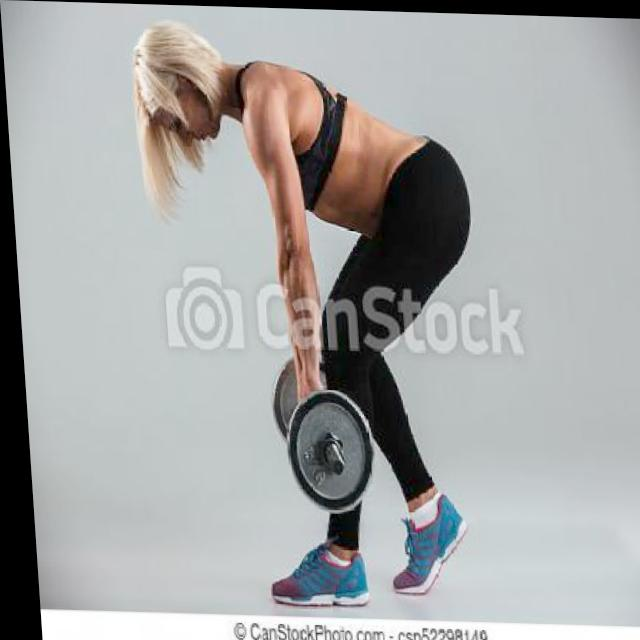barbell: (278, 385, 376, 516)
